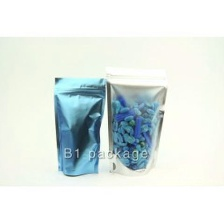snack: (99, 61, 172, 180), (47, 70, 108, 180)
